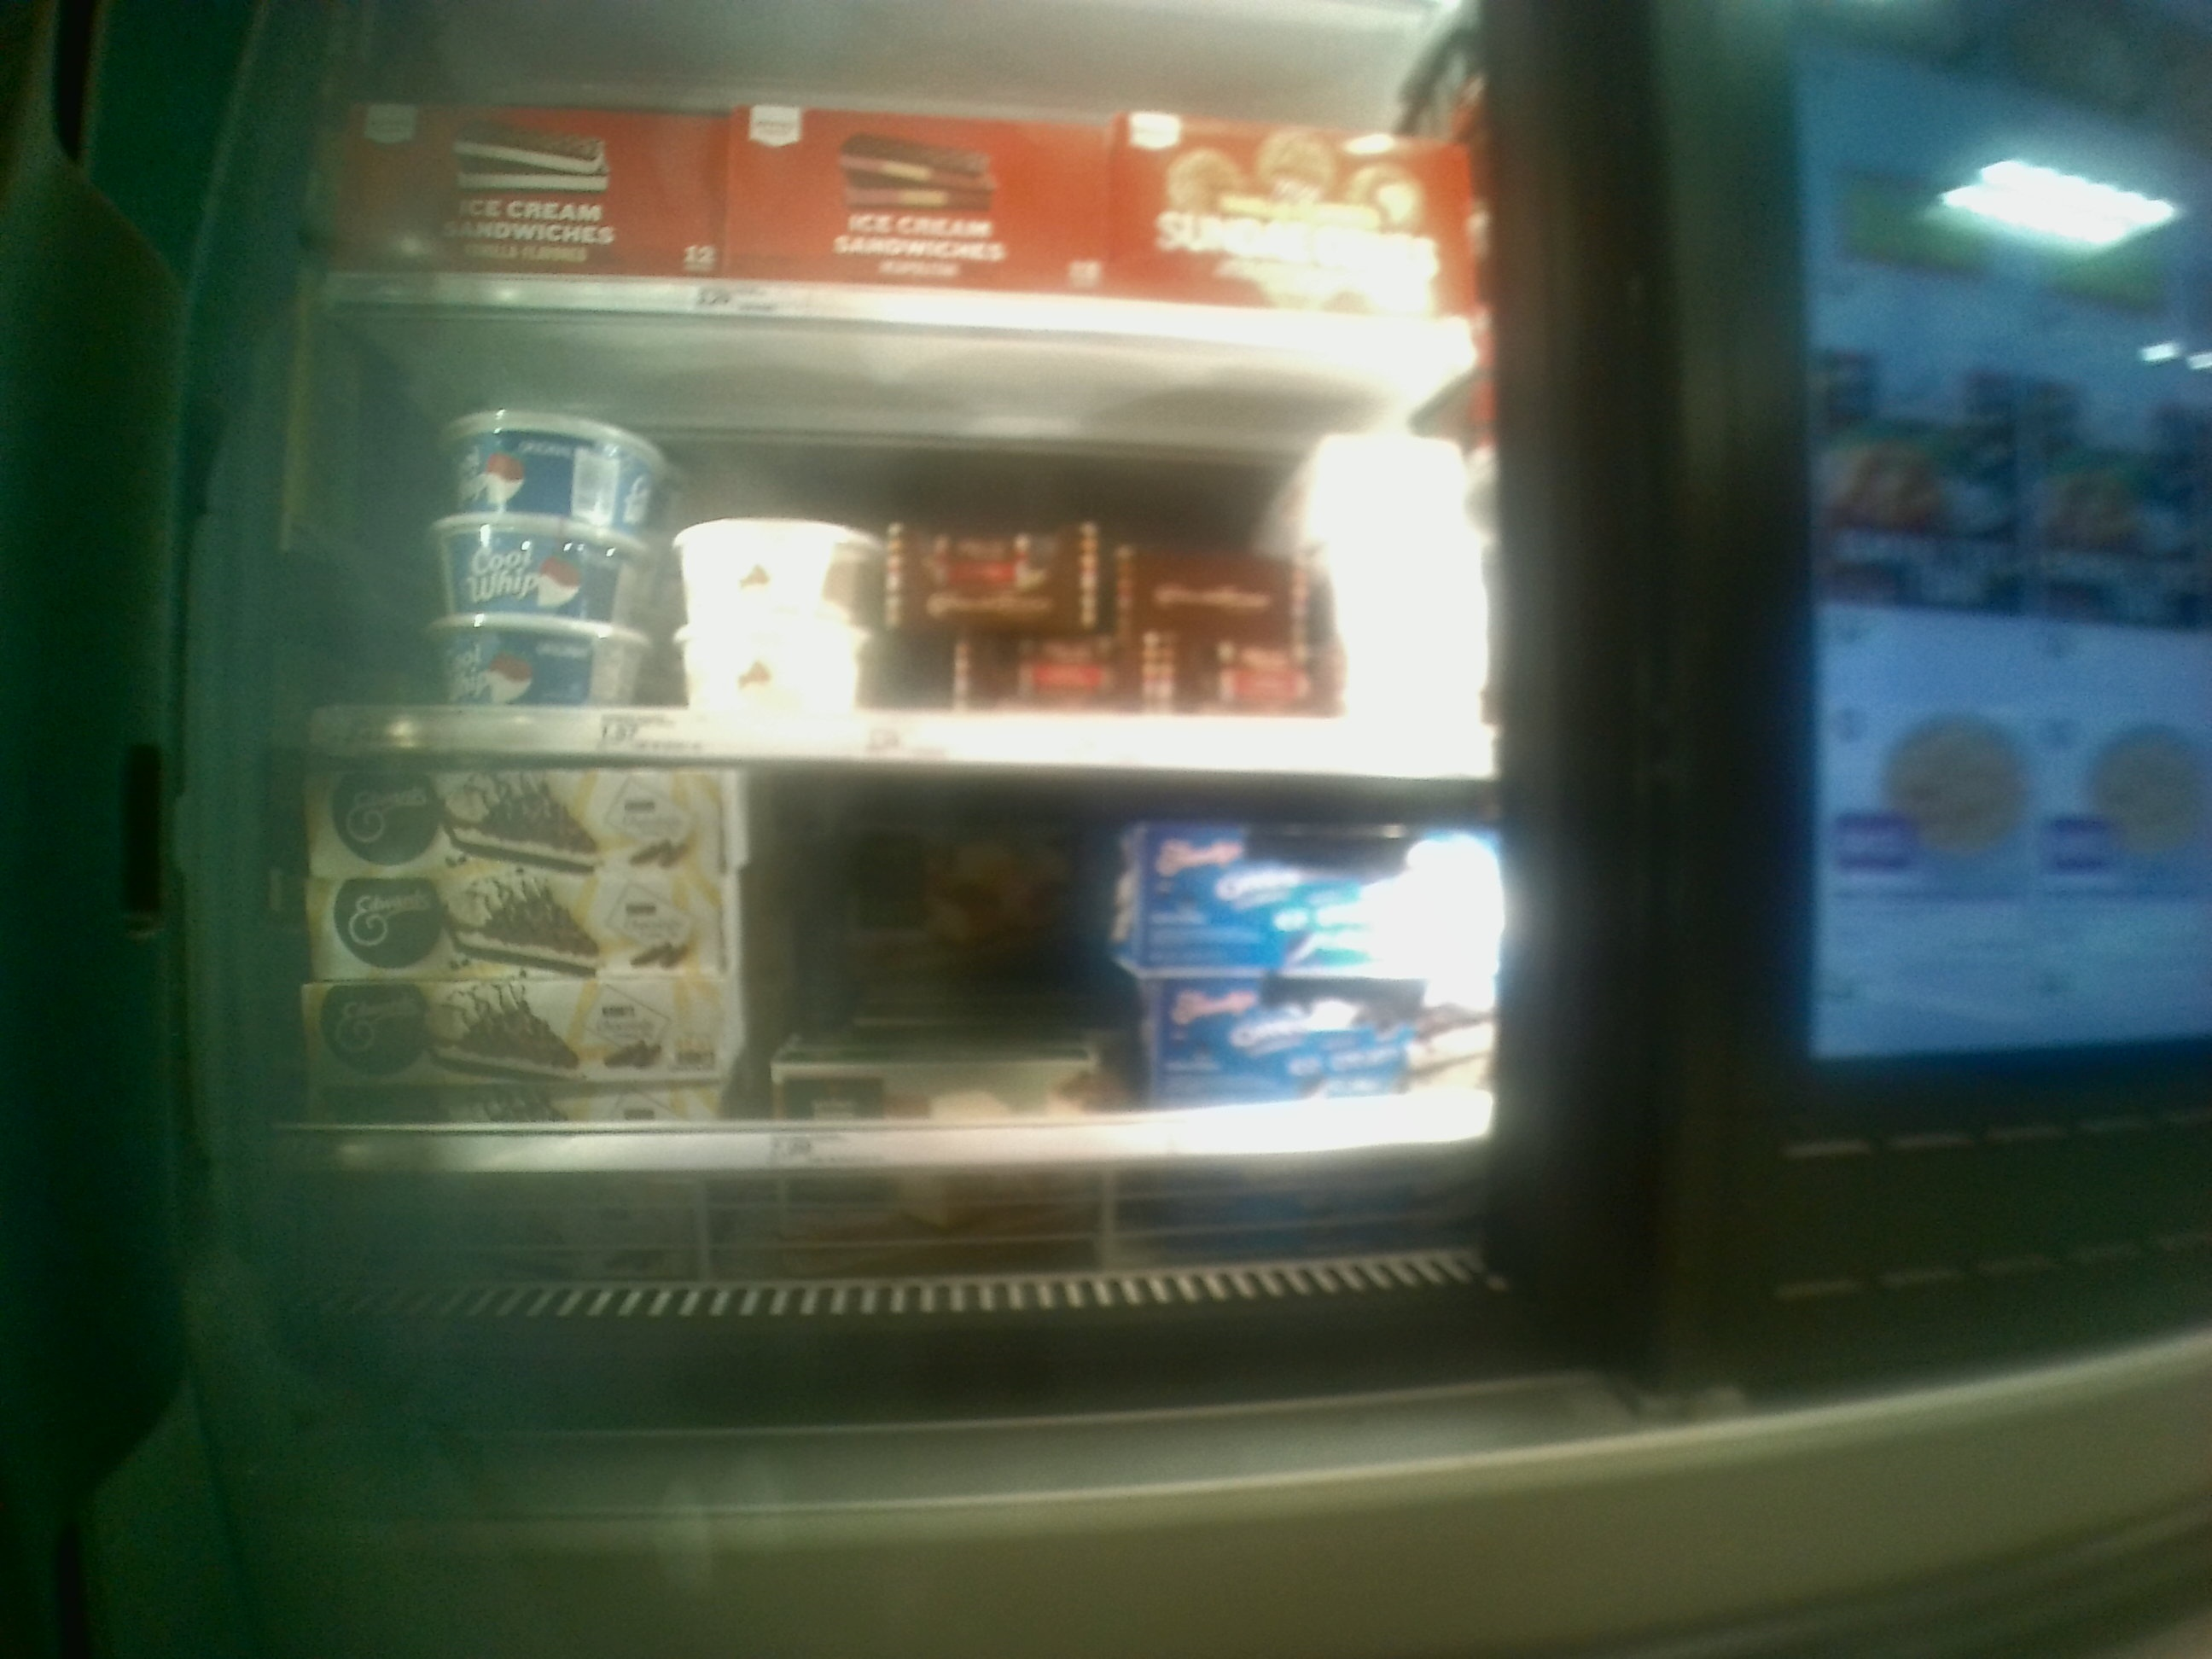frozen-food-shelf: (270, 361, 1524, 782), (263, 782, 1521, 1180)
